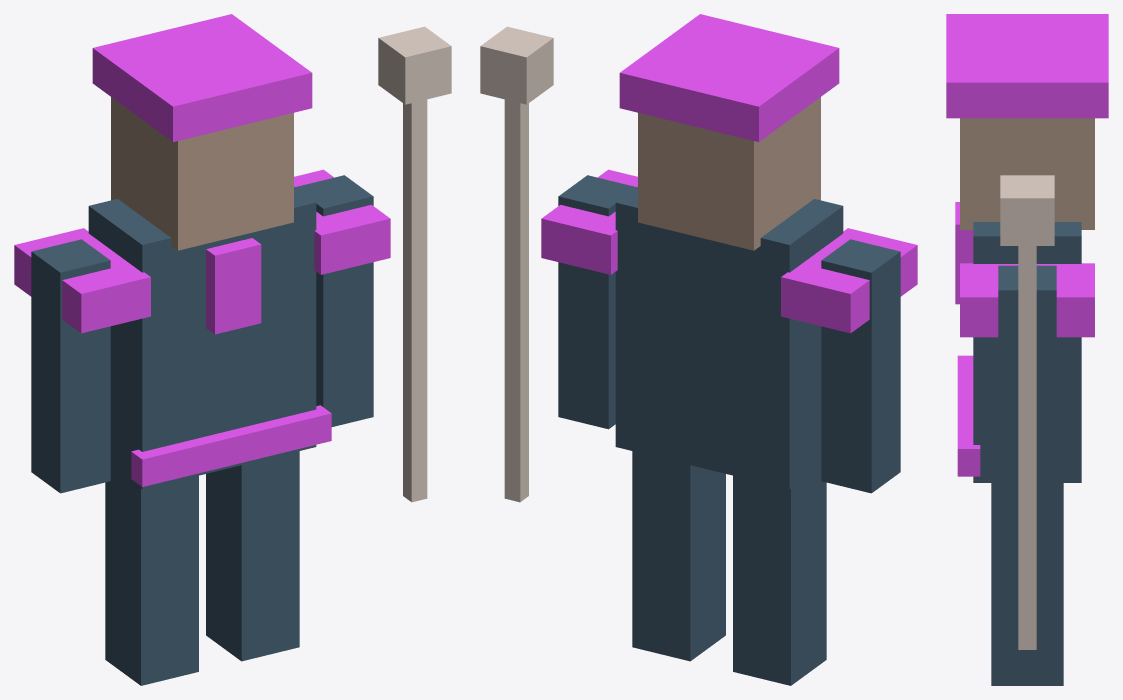
File: 06_sarai_ironwake_marshal_near_loading.glb
The picture shows the model from 3 angles, left to right: view 1: azimuth 30°, elevation 25°; view 2: azimuth 150°, elevation 25°; view 3: azimuth 270°, elevation 25°; orthographic projection.
Parts seen in each view (by area): view 1: Sarai Ironwake, Marshal near Loading; view 2: Sarai Ironwake, Marshal near Loading; view 3: Sarai Ironwake, Marshal near Loading.
Boxes of the visible parts, x1=… form: Sarai Ironwake, Marshal near Loading: x1=14, y1=14, x2=451, y2=685; Sarai Ironwake, Marshal near Loading: x1=480, y1=14, x2=917, y2=685; Sarai Ironwake, Marshal near Loading: x1=946, y1=14, x2=1108, y2=685.
Size of the model in its own units: 1.07 by 1.54 by 0.3792.
